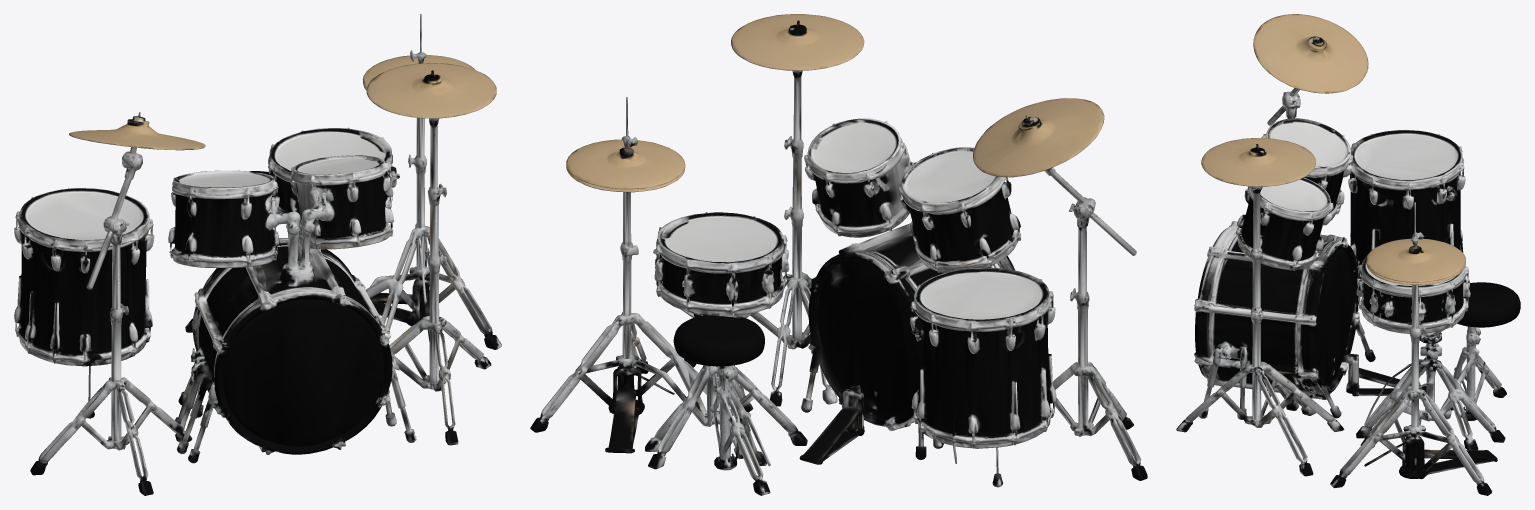
File: drums-optimized.glb
3 renders of one model, left to right at view 1: azimuth 30°, elevation 25°; view 2: azimuth 150°, elevation 25°; view 3: azimuth 270°, elevation 25°, orthographic. The views are drawn at different scales.
Parts seen in each view (by area): view 1: node_0_Material_0; view 2: node_0_Material_0; view 3: node_0_Material_0.
Boxes of the visible parts, box(x1,y1,x2,y2) form: node_0_Material_0: box(14, 14, 501, 495); node_0_Material_0: box(530, 14, 1147, 495); node_0_Material_0: box(1176, 14, 1520, 495).
Bounding box in the file's own units: 0.9247 × 0.5926 × 0.6235.
Materials: 1 (1 with a texture image).
